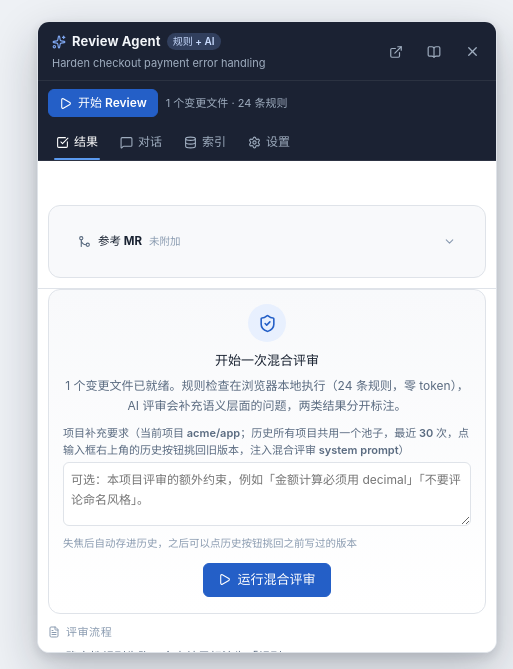
Test: MR description in the app review flow › sends the MR description to the model as requirement background
Expected: the text "Harden checkout payment error handling" is shown, [52, 56, 265, 70]
Click the button "开始 Review" at (103, 103), box [48, 89, 158, 117]
(page scrolled)
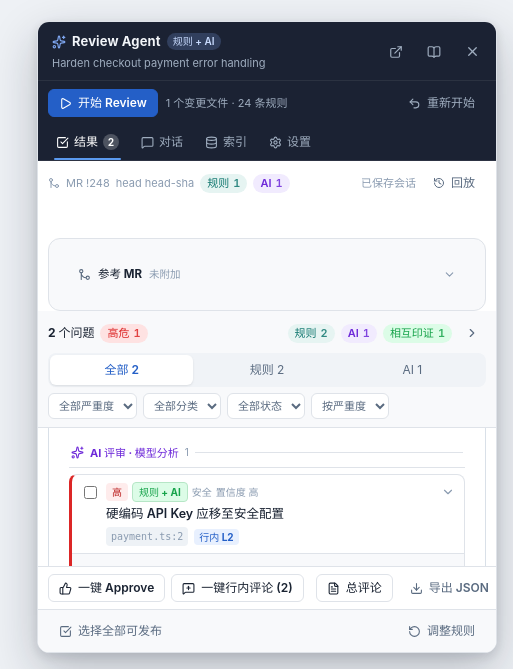
Now the text "2 个问题" is shown, box [48, 324, 94, 342]
Now the text "硬编码 API Key 应移至安全配置" is shown, box [106, 506, 284, 521]
